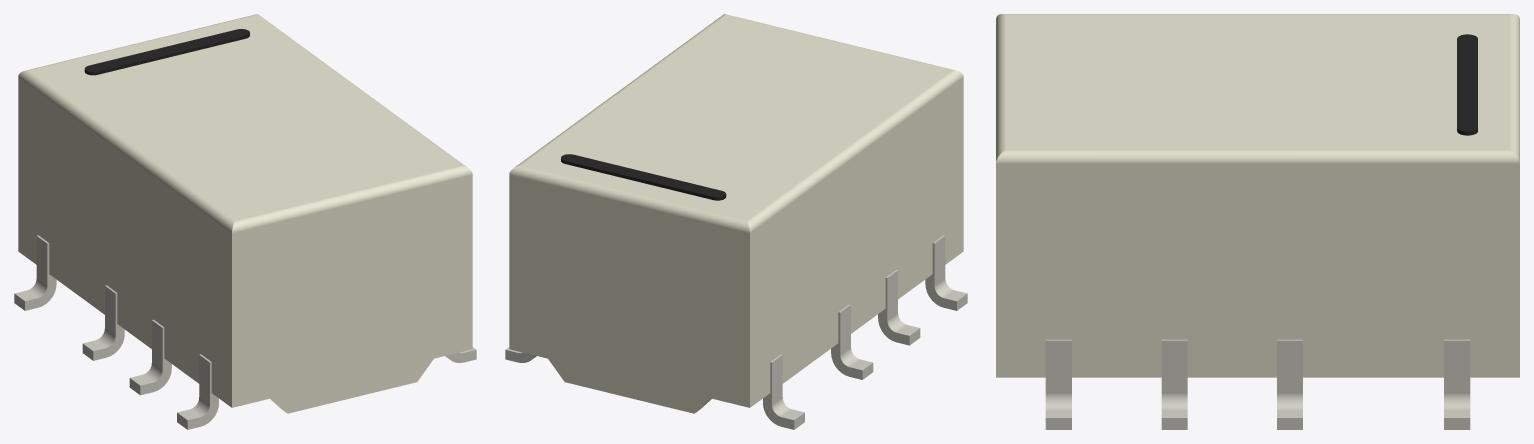
The model's file is rele_smd.glb.
The picture shows the model from 3 angles, left to right: view 1: azimuth 30°, elevation 25°; view 2: azimuth 150°, elevation 25°; view 3: azimuth 270°, elevation 25°; orthographic projection. The views are drawn at different scales.
Visible parts, largest first — view 1: U1; view 2: U1; view 3: U1.
Part boxes in pixels (<box>): U1: <box>14,14,476,429</box>; U1: <box>505,14,967,429</box>; U1: <box>996,14,1519,429</box>.
Size of the model in its own units: 0.0078 by 0.00558 by 0.01.
